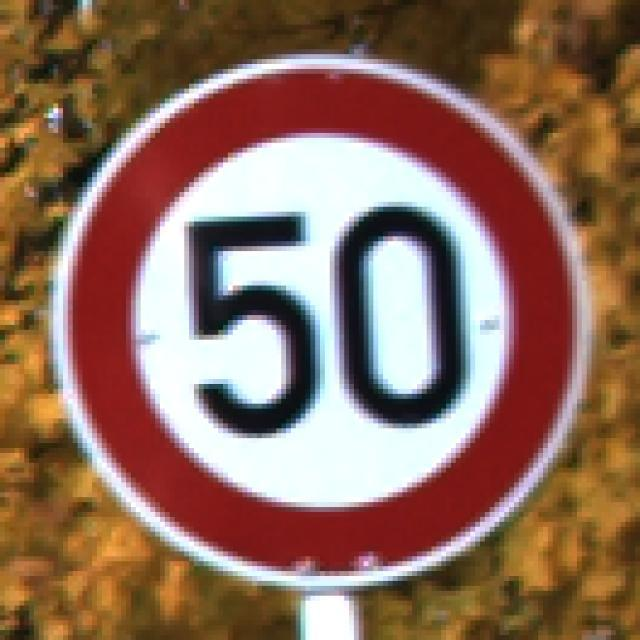speed limit 50: (67, 52, 584, 576)
